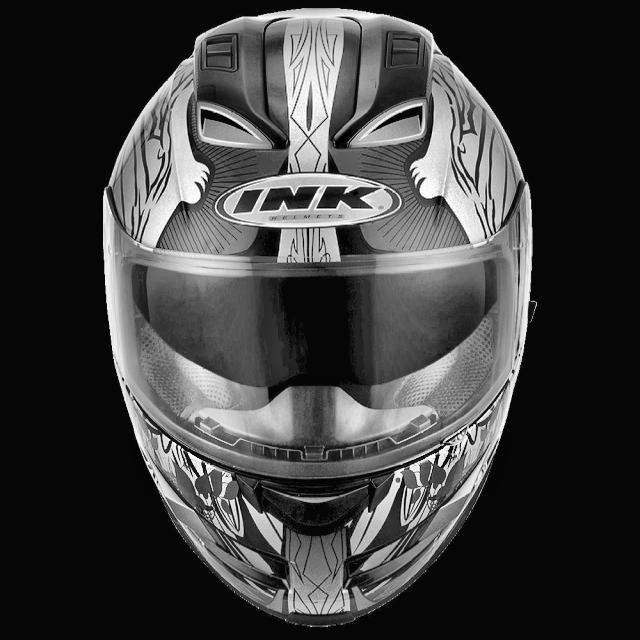Helmet: (92, 7, 538, 640)
